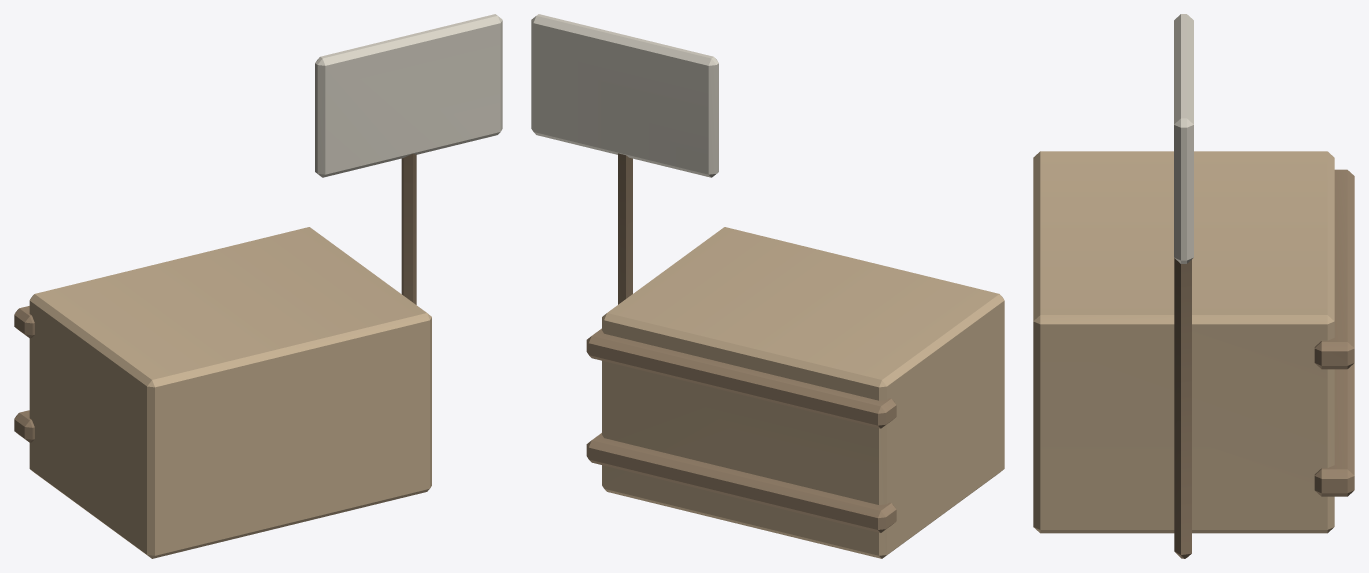
Rendered from shop_sold_sign.glb.
The picture shows the model from 3 angles, left to right: view 1: azimuth 30°, elevation 25°; view 2: azimuth 150°, elevation 25°; view 3: azimuth 270°, elevation 25°; orthographic projection. The views are drawn at different scales.
Size of the model in its own units: 0.59 by 0.54 by 0.32.
